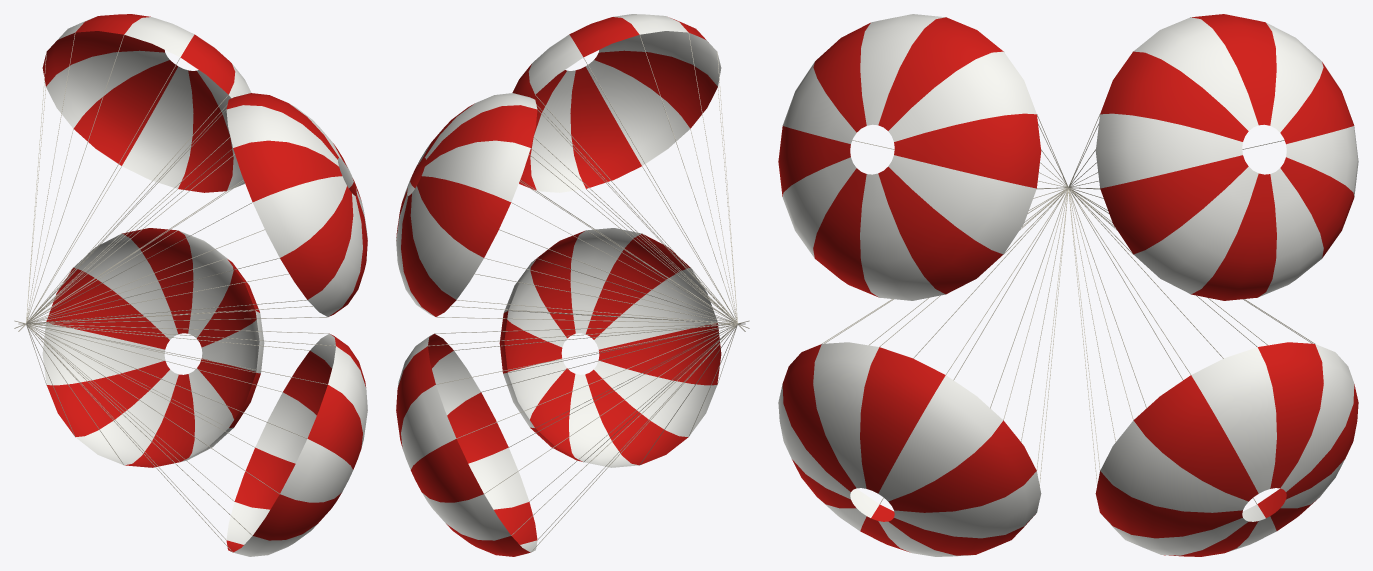
The model's file is fallschirm.glb.
3 renders of one model, left to right at view 1: azimuth 30°, elevation 25°; view 2: azimuth 150°, elevation 25°; view 3: azimuth 270°, elevation 25°, orthographic. The views are drawn at different scales.
Parts seen in each view (by area): view 1: fallschirm; view 2: fallschirm; view 3: fallschirm.
Part boxes in pixels (x1=…): fallschirm: x1=14, y1=14, x2=367, y2=556; fallschirm: x1=396, y1=14, x2=749, y2=556; fallschirm: x1=778, y1=14, x2=1358, y2=556.
Bounding box in the file's own units: 43.37 × 64.38 × 64.38.
